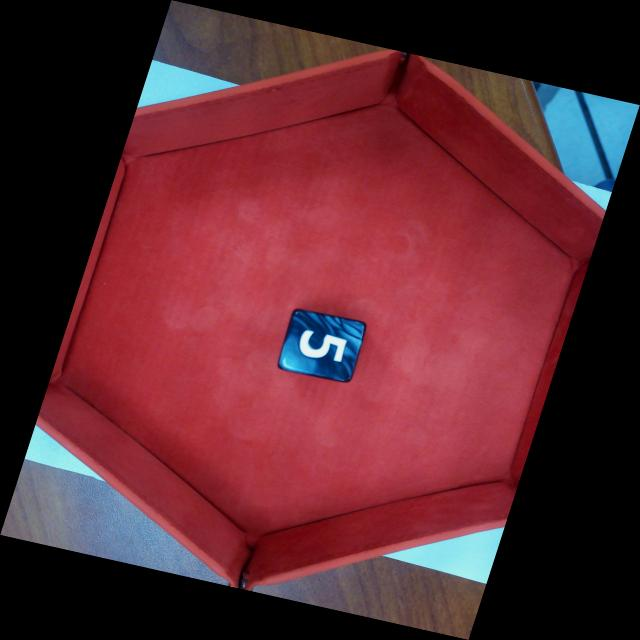dice: (277, 306, 367, 385)
